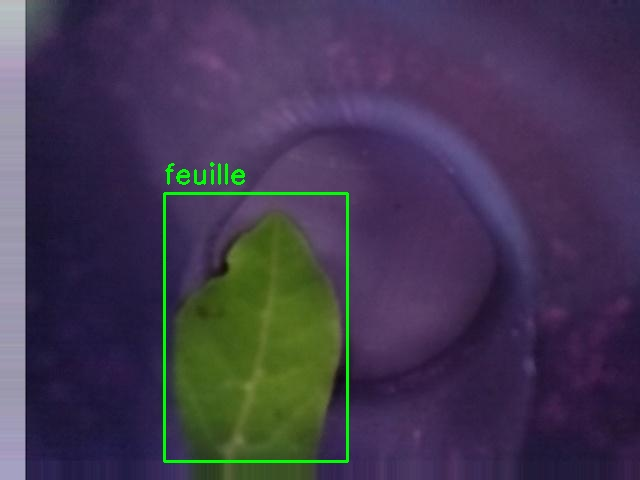feuille: (164, 193, 347, 461)
